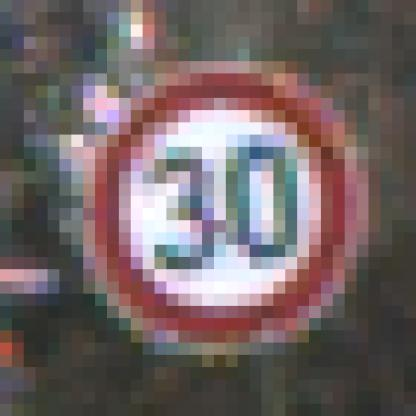Speed Limit 30: (93, 70, 355, 344)
